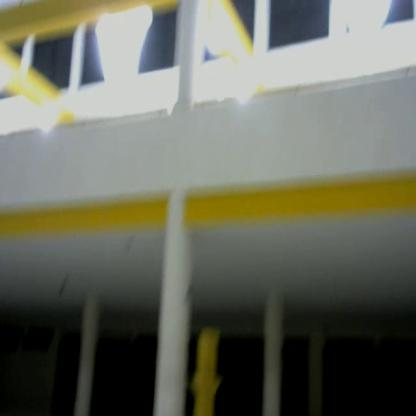pole: (180, 324, 232, 416)
